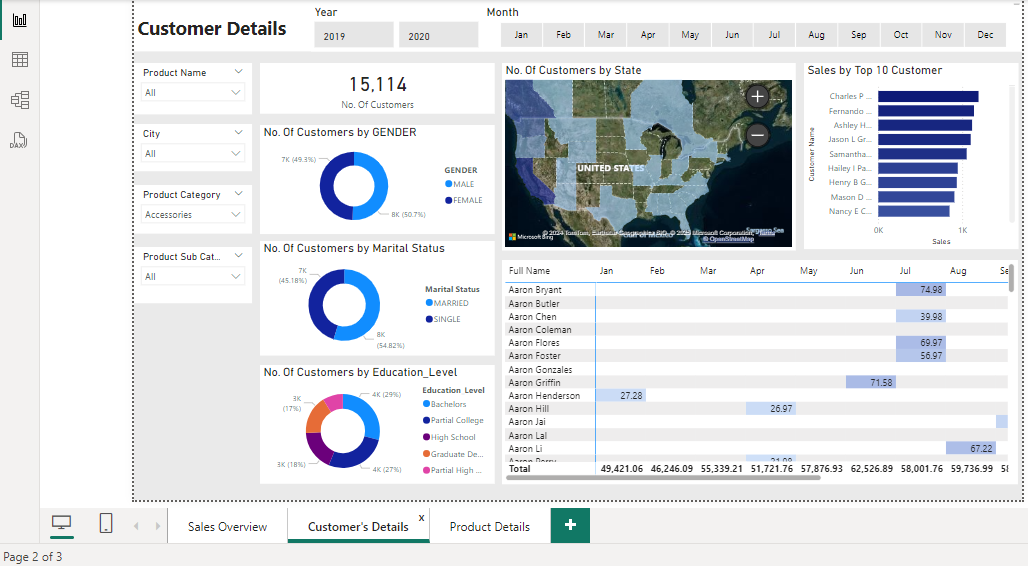

The dashboard page shown, as its layout file describes it:
{"tool":"powerbi","page":{"name":"Customer's Details","canvas":[1280,720],"ordinal":1},"visuals":[{"type":"textbox","box":[0,0,1279.7,73.9],"z":0},{"type":"slicer","fields":{"Values":["Dim_products.Product Name"]},"box":[0,90.6,169.6,73.9],"z":1000},{"type":"slicer","fields":{"Values":["Dim_customers.City"]},"box":[0,179,169.6,68.1],"z":2000},{"type":"slicer","fields":{"Values":["Dim_products.Product Category"]},"box":[0,266,169.6,69.6],"z":3000},{"type":"slicer","fields":{"Values":["Dim_products.Product Sub Category"]},"box":[0,355.8,169.6,81.2],"z":4000},{"type":"advancedSlicerVisual","fields":{"Values":["Dim_date.Year"]},"box":[255.1,7.2,247.8,66.7],"z":5000},{"type":"slicer","title":"Month","fields":{"Values":["Dim_date.MonthShort"]},"box":[502.9,7.2,776.8,66.7],"z":6000},{"type":"card","fields":{"Values":["Measures table.No. Of Customers"]},"box":[181.4,90.7,338.4,73.4],"z":7000},{"type":"donutChart","fields":{"Category":["Dim_customers.GENDER"],"Y":["Measures table.No. Of Customers"]},"box":[181.2,179.7,337.7,156.5],"z":9000},{"type":"barChart","title":"Sales by Top 10 Customer","fields":{"Y":["Measures table.Total_Sales"],"Category":["Dim_customers.Full Name"]},"box":[965.2,91.3,308.7,268.1],"z":10000},{"type":"filledMap","fields":{"Category":["Dim_customers.State"]},"box":[530.4,91.3,423.2,269.6],"z":11000},{"type":"donutChart","fields":{"Category":["Dim_customers.Marital Status"],"Y":["Measures table.No. Of Customers"]},"box":[181.2,346.4,337.7,165.2],"z":12000},{"type":"pivotTable","fields":{"Columns":["Dim_date.MonthShort"],"Rows":["Dim_customers.Full Name"],"Values":["Measures table.Sales"]},"box":[530.4,373.9,743.5,323.2],"z":13000},{"type":"donutChart","fields":{"Category":["Dim_customers.Education_Level"],"Y":["Measures table.No. Of Customers"]},"box":[181.2,526.1,337.7,171],"z":14000}]}

Visuals, with their boxes on the page's 1280x720 design canvas (x1, y1, x2, y2). These are canvas units, not pixel positions in the 1028x566 screenshot, which may show the page scaled, cropped or inside an application window:
textbox: select_region(0, 0, 1280, 74)
slicer - Dim_products.Product Name: select_region(0, 91, 170, 164)
slicer - Dim_customers.City: select_region(0, 179, 170, 247)
slicer - Dim_products.Product Category: select_region(0, 266, 170, 336)
slicer - Dim_products.Product Sub Category: select_region(0, 356, 170, 437)
advancedSlicerVisual - Dim_date.Year: select_region(255, 7, 503, 74)
"Month" slicer: select_region(503, 7, 1280, 74)
card - Measures table.No. Of Customers: select_region(181, 91, 520, 164)
donutChart - Dim_customers.GENDER x Measures table.No. Of Customers: select_region(181, 180, 519, 336)
"Sales by Top 10 Customer" barChart: select_region(965, 91, 1274, 359)
filledMap - Dim_customers.State: select_region(530, 91, 954, 361)
donutChart - Dim_customers.Marital Status x Measures table.No. Of Customers: select_region(181, 346, 519, 512)
pivotTable - Dim_date.MonthShort x Dim_customers.Full Name: select_region(530, 374, 1274, 697)
donutChart - Dim_customers.Education_Level x Measures table.No. Of Customers: select_region(181, 526, 519, 697)
